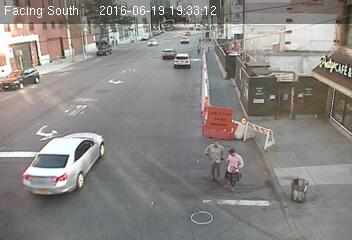neg: (288, 80, 320, 123), (252, 43, 278, 78), (139, 41, 163, 73), (94, 70, 118, 101)
pos: (197, 135, 235, 187), (217, 146, 252, 193), (216, 144, 248, 187)
